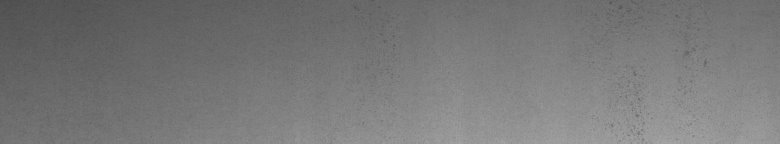ib: (605, 5, 707, 136)
